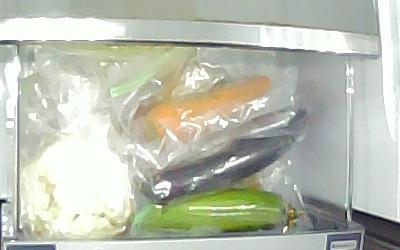cabbage_vinyl: (19, 136, 135, 239)
carrot_vinyl: (140, 73, 271, 141)
eggplant_vinyl: (132, 105, 309, 205)
zucchini_vinyl: (133, 186, 281, 234)
